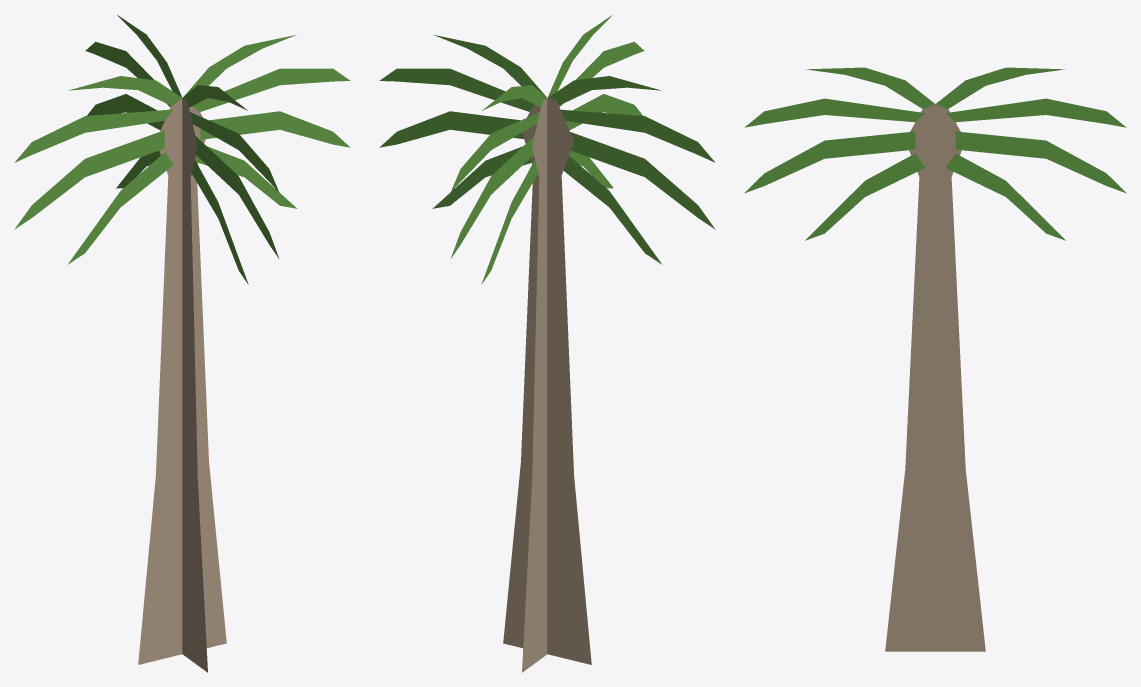
File: tre6.glb
The picture shows the model from 3 angles, left to right: view 1: azimuth 30°, elevation 25°; view 2: azimuth 150°, elevation 25°; view 3: azimuth 270°, elevation 25°; orthographic projection.
Visible parts, largest first — view 1: tre6; view 2: tre6; view 3: tre6.
Part boxes in pixels (x1,y1,x2,y2): tre6: (14,15,350,672); tre6: (379,15,715,672); tre6: (744,67,1126,651).
Size of the model in its own units: 5.7 by 9.6 by 5.7.
